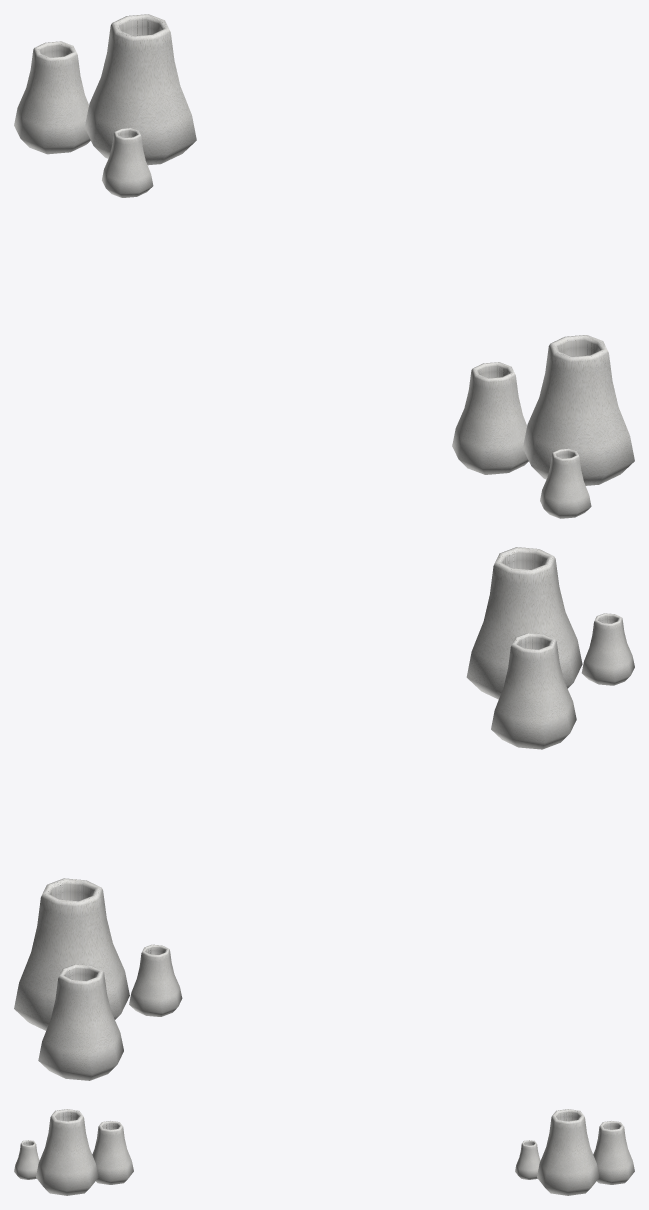
The model's file is Vasos.fbx.
The picture shows the model from 3 angles, top to bottom: view 1: azimuth 30°, elevation 25°; view 2: azimuth 150°, elevation 25°; view 3: azimuth 270°, elevation 25°; orthographic projection. The views are drawn at different scales.
Parts seen in each view (by area): view 1: Vaso_1, Vaso_1_2; view 2: Vaso_1_2, Vaso_1; view 3: Vaso_1_2, Vaso_1.
Boxes of the visible parts, bbox=[...] form: Vaso_1: bbox=[452, 335, 634, 518]; Vaso_1_2: bbox=[14, 14, 196, 197]; Vaso_1_2: bbox=[14, 878, 182, 1080]; Vaso_1: bbox=[466, 547, 634, 749]; Vaso_1_2: bbox=[515, 1109, 634, 1195]; Vaso_1: bbox=[14, 1109, 133, 1195].
Bounding box in the file's own units: 117 × 121 × 850.
Materials: 1 (1 with a texture image).
